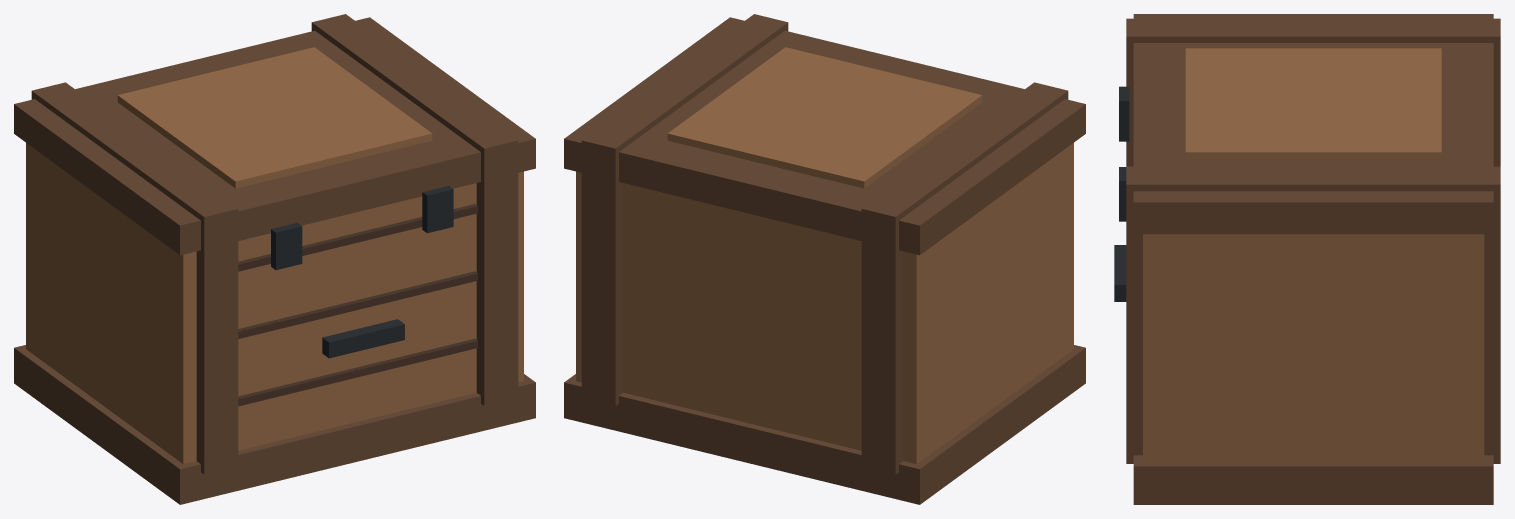
The model's file is CMU3DWoodCrate.glb.
The picture shows the model from 3 angles, left to right: view 1: azimuth 30°, elevation 25°; view 2: azimuth 150°, elevation 25°; view 3: azimuth 270°, elevation 25°; orthographic projection. The views are drawn at different scales.
Visible parts, largest first — view 1: crate body, reinforcing strap (×2), lid, lid inset, lower rail, plank seam (×3), front latch (×2), front handle; view 2: crate body, reinforcing strap (×2), lid, lid inset, lower rail; view 3: crate body, lid, reinforcing strap (×2), lid inset, lower rail, front latch (×2), front handle.
Part boxes in pixels (x1,y1,x2,y2): crate body: (26, 143, 523, 464); reinforcing strap (×2): (31, 14, 518, 474); lid: (14, 17, 535, 255); lid inset: (117, 47, 432, 188); lower rail: (14, 345, 535, 504); plank seam (×3): (238, 204, 477, 406); front latch (×2): (271, 186, 453, 270); front handle: (322, 319, 404, 358); crate body: (576, 143, 1073, 464); reinforcing strap (×2): (581, 14, 1068, 474); lid: (564, 17, 1085, 255); lid inset: (667, 47, 982, 188); lower rail: (564, 345, 1085, 504); crate body: (1143, 234, 1484, 462); lid: (1133, 14, 1493, 234); reinforcing strap (×2): (1126, 18, 1500, 463); lid inset: (1185, 48, 1441, 160); lower rail: (1133, 455, 1493, 504); front latch (×2): (1119, 86, 1129, 221); front handle: (1114, 245, 1126, 301).
Size of the model in its own units: 0.94 by 0.723 by 0.816.
